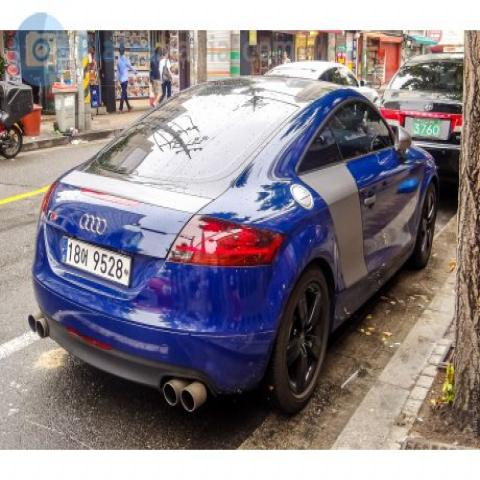LP: (52, 222, 139, 295)
